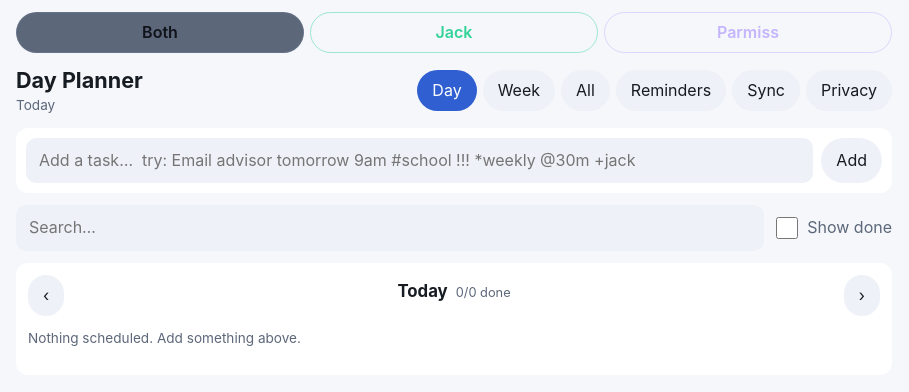
Test: App › schedules shorthand onto the day it names
Step 1. Type "Email advisor tomorrow 9am #school !high" into the field labelled "Add a task" → (420, 161), box [26,138,813,183]
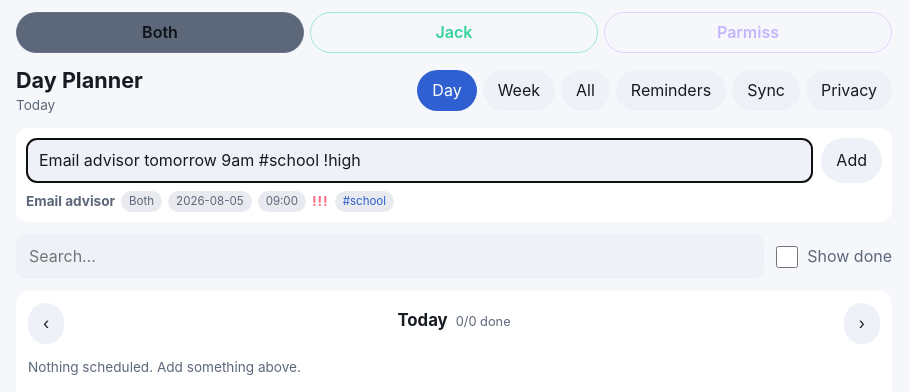
Step 2. Click the button "Add" → click(852, 161), box [821,138,882,183]
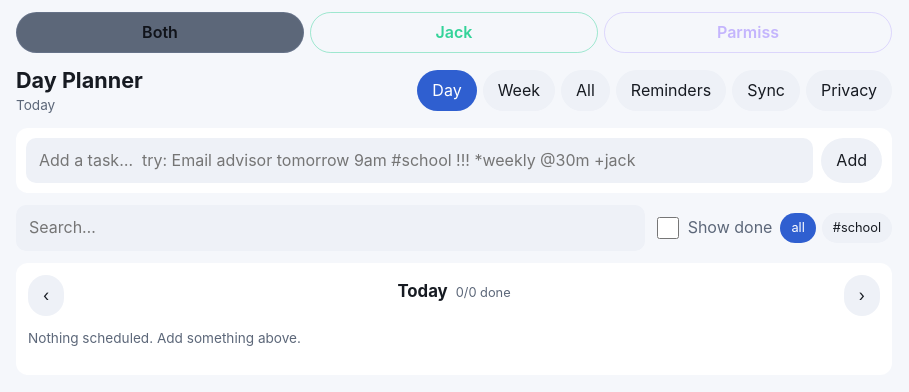
Expected: the text "Nothing scheduled. Add something above." is shown, [28,330,301,346]
Now the button "#school" is shown, box [822,213,892,243]
Step 3. Click the button named "Next day" → click(862, 295), box [844,275,880,316]
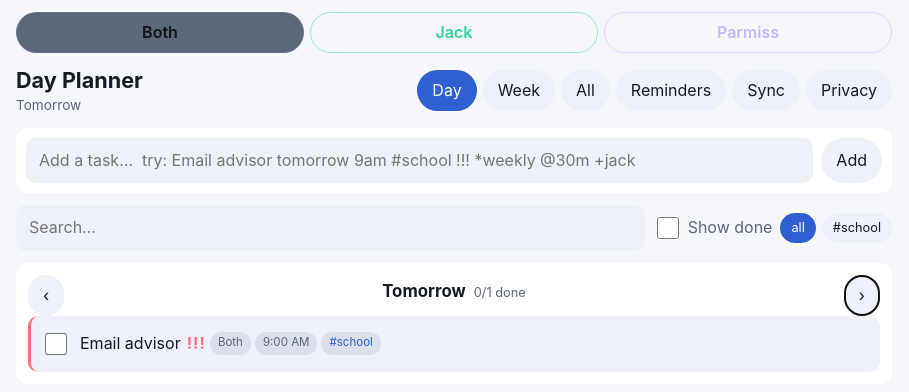
Now the heading "Tomorrow 0/1 done" is shown, box [382,279,526,303]
Now the text "Email advisor" is shown, box [80,332,181,355]
Now the text "9:00 AM" is shown, box [255,332,318,355]
